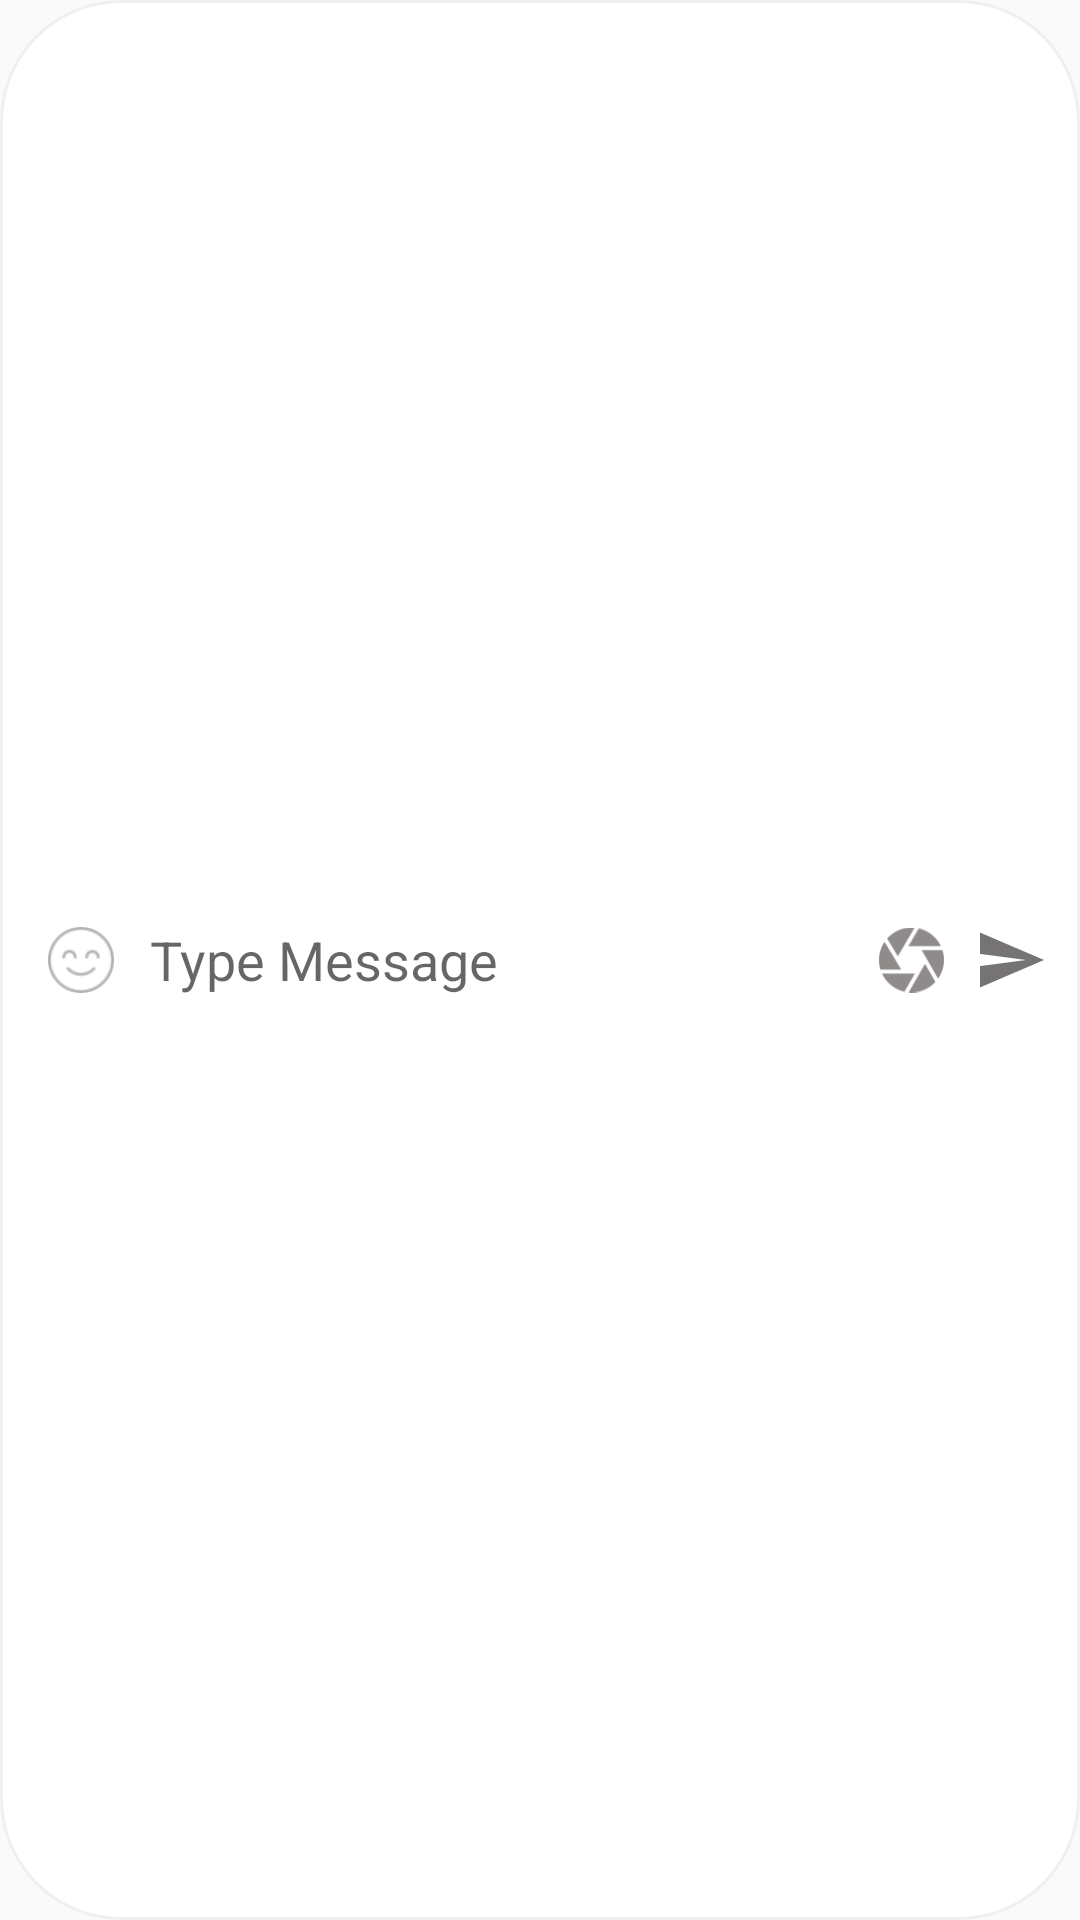

Point at icon controls on the screen. Image size 1080 x 1920, points as point (x, y).
camera: point (911, 960)
sendbuttongrey: point (1012, 960)
smile: point (81, 960)
